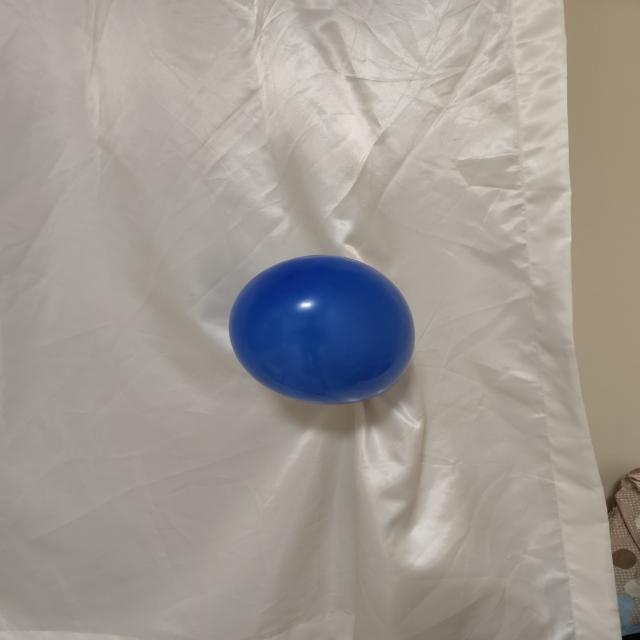balloon: (229, 255, 415, 404)
